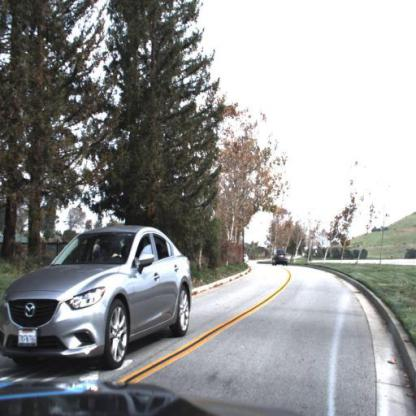car: (1, 224, 194, 370), (271, 249, 292, 271)
